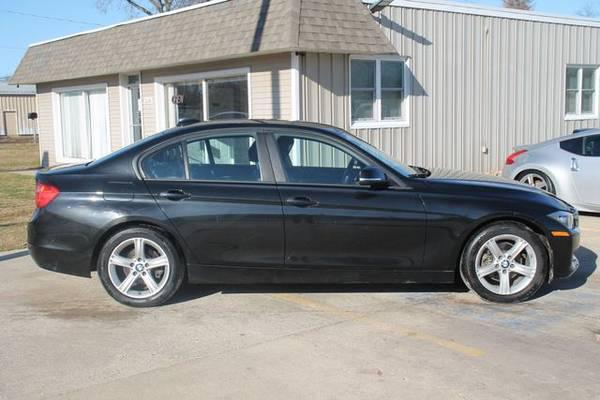Front_Bumper: (536, 219, 581, 280)
Front_Fender: (422, 191, 562, 281)
Front_Right_Door: (285, 186, 439, 283)
Front_Right_Window: (264, 130, 411, 190)
Hood: (407, 165, 567, 208)
Rear_Bumper: (26, 208, 104, 276)
Rear_Fender: (149, 184, 296, 284), (37, 175, 165, 232)
Rear_Right_Window: (139, 129, 276, 185)
Right_Headlight: (549, 211, 577, 231)
Right_Taillight: (36, 182, 59, 209)
Roof: (81, 117, 415, 186)
Wheel: (463, 225, 550, 305), (99, 224, 185, 303)
